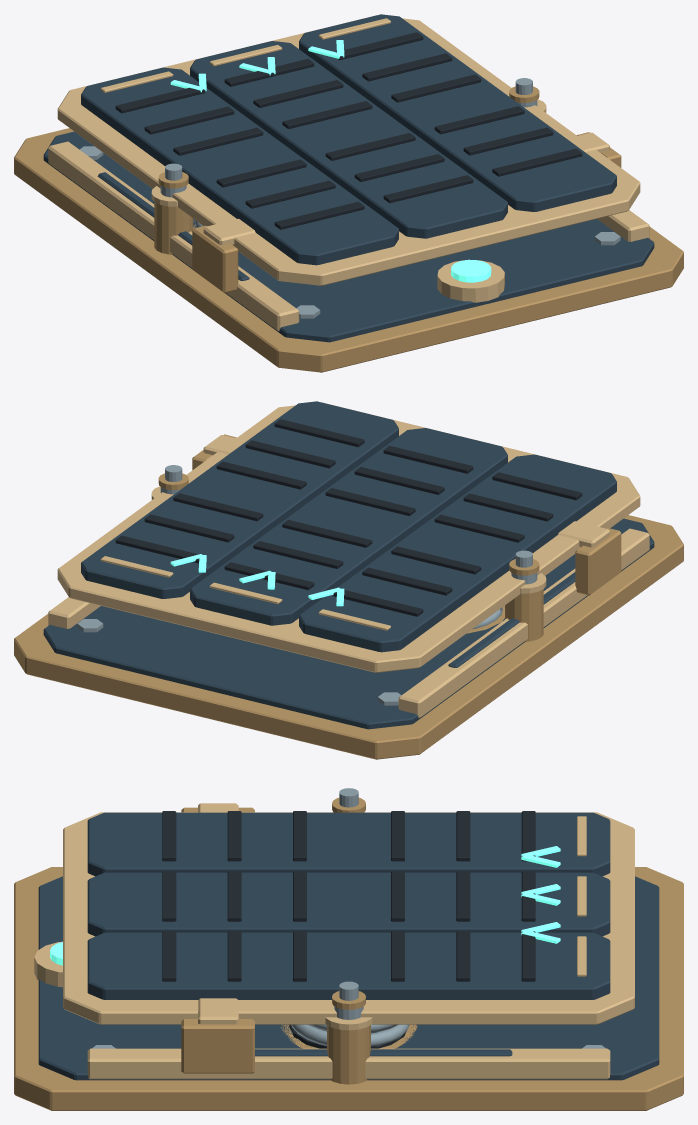
File: spring_plate.glb
3 views of the same model, one above another, from view 1: azimuth 30°, elevation 25°; view 2: azimuth 150°, elevation 25°; view 3: azimuth 270°, elevation 25° (orthographic). The views are drawn at different scales.
Parts seen in each view (by area): view 1: foundation, tread_0, tread_2, tread_1, deck_carriage, side_rail_L, latch_L, power_core, guide_sleeve_L, side_rail_R, latch_R; view 2: foundation, tread_0, tread_2, tread_1, deck_carriage, side_rail_L, latch_L, guide_sleeve_L, side_rail_R, latch_R; view 3: foundation, tread_2, tread_0, tread_1, deck_carriage, side_rail_R, latch_R, guide_sleeve_R, spring_R, power_core, spring_seat_R, guide_middle_R (+1 smaller).
Boxes of the visible parts, box(x1,y1,x2,y2) form: foundation: box(14, 128, 683, 372); tread_0: box(81, 67, 398, 265); tread_2: box(299, 14, 616, 211); tread_1: box(190, 41, 507, 238); deck_carriage: box(57, 18, 640, 285); side_rail_L: box(48, 141, 299, 331); latch_L: box(192, 218, 255, 293); power_core: box(437, 259, 504, 302); guide_sleeve_L: box(151, 186, 192, 254); side_rail_R: box(597, 210, 649, 241); latch_R: box(567, 132, 621, 167); foundation: box(14, 515, 683, 759); tread_0: box(299, 454, 616, 652); tread_2: box(81, 401, 398, 598); tread_1: box(190, 428, 507, 625); deck_carriage: box(57, 405, 640, 672); side_rail_L: box(398, 528, 649, 718); latch_L: box(558, 521, 621, 595); guide_sleeve_L: box(505, 573, 546, 641); side_rail_R: box(48, 597, 100, 628); latch_R: box(192, 434, 246, 469); foundation: box(14, 867, 683, 1110); tread_2: box(87, 931, 610, 999); tread_0: box(87, 811, 610, 876); tread_1: box(87, 871, 610, 936); deck_carriage: box(63, 812, 634, 1024); side_rail_R: box(87, 1048, 610, 1079); latch_R: box(181, 998, 254, 1073); guide_sleeve_R: box(325, 1017, 372, 1084); spring_R: box(289, 1024, 409, 1046); power_core: box(34, 941, 62, 987); spring_seat_R: box(280, 1024, 417, 1048); guide_middle_R: box(332, 991, 365, 1019).
Bounding box in the file's own units: 0.65 × 0.154 × 0.82.
